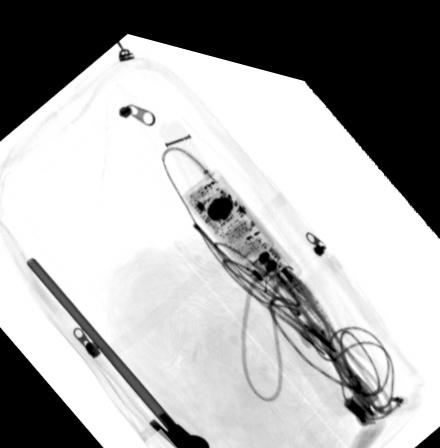Hammer: (24, 253, 211, 448)
